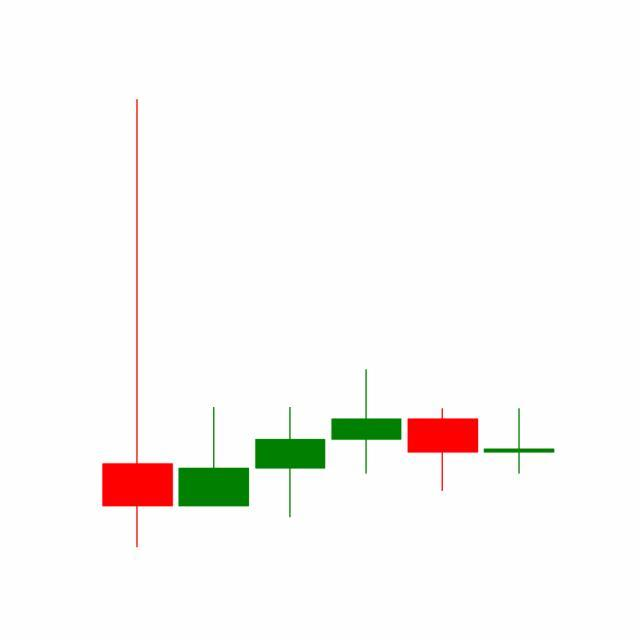Dragonfly Doji: (404, 408, 482, 493)
